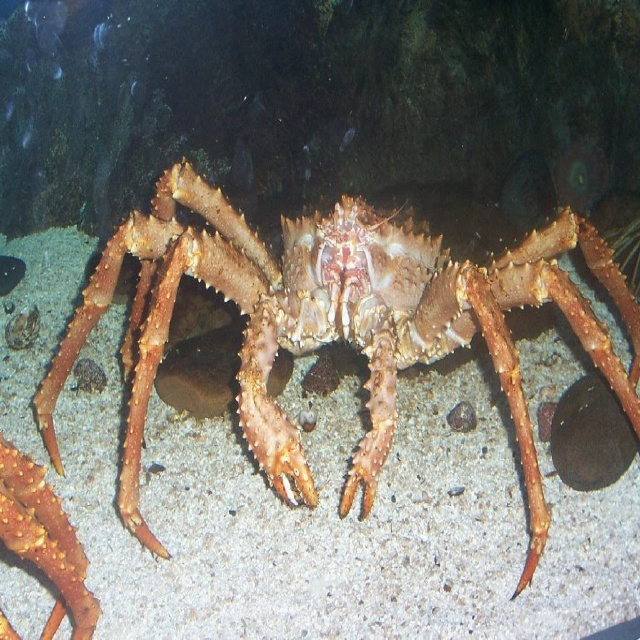Crab: (32, 156, 640, 601), (0, 432, 103, 640)
